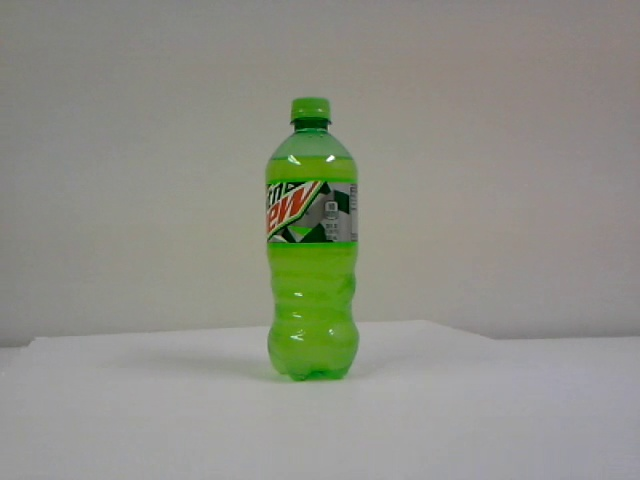botolplastik: (268, 99, 358, 380)
